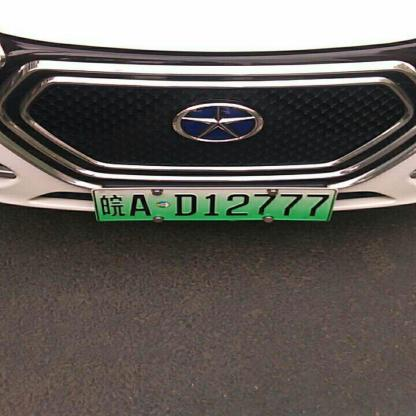lp: (92, 191, 335, 220)
